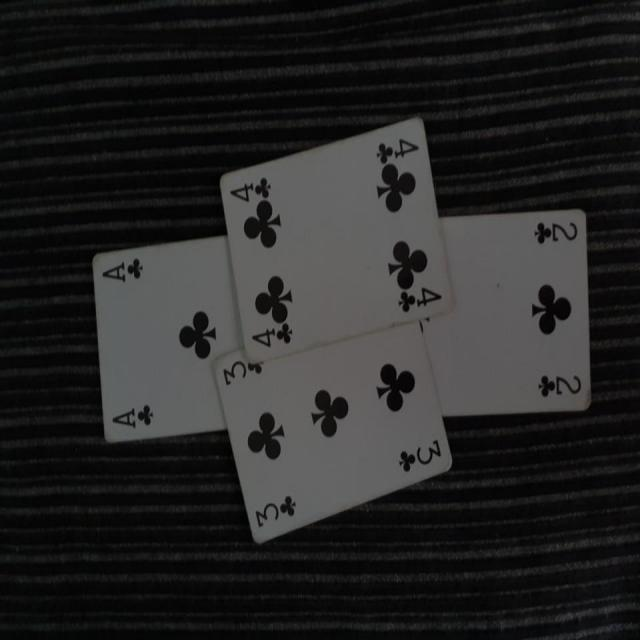2 of clubs: (420, 204, 594, 418)
3 of clubs: (214, 316, 453, 548)
4 of clubs: (218, 115, 456, 362)
ace of clubs: (92, 235, 246, 444)
